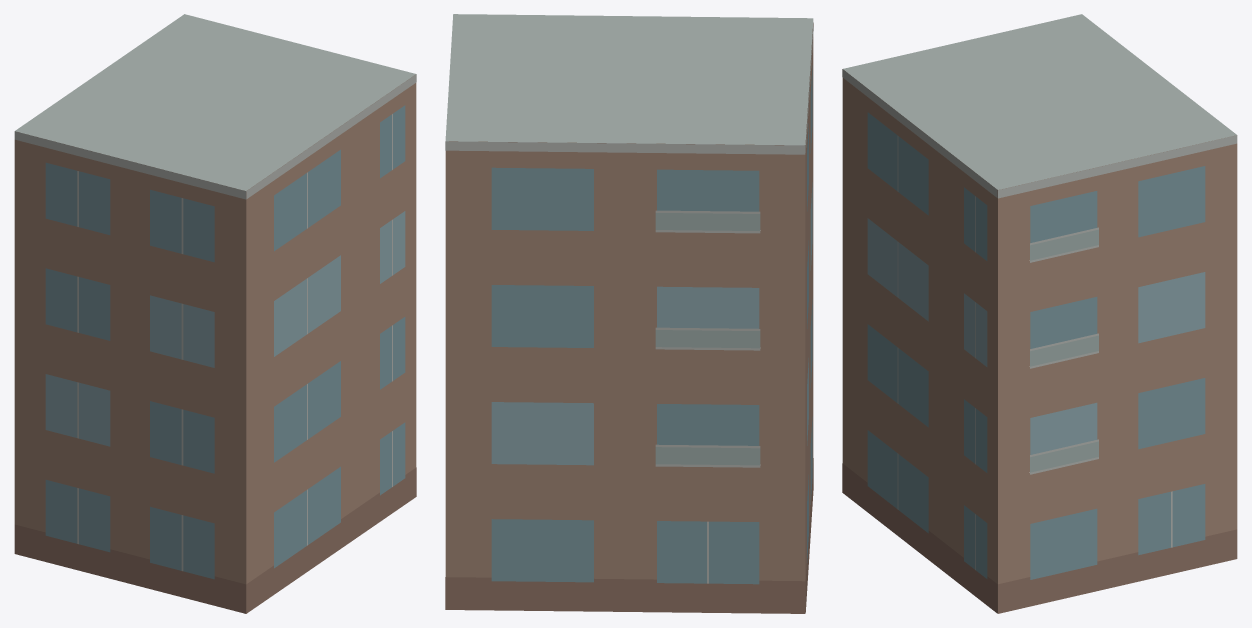
The model's file is residential-ad08dee5-63f3-4694-a81a-4f2a9295e2bc.glb.
3 renders of one model, left to right at view 1: azimuth 30°, elevation 25°; view 2: azimuth 150°, elevation 25°; view 3: azimuth 270°, elevation 25°, orthographic. The views are drawn at different scales.
Parts seen in each view (by area): view 1: residential-ad08dee5-63f3-4694-a81a-4f2a9295e2bc.tmp; view 2: residential-ad08dee5-63f3-4694-a81a-4f2a9295e2bc.tmp; view 3: residential-ad08dee5-63f3-4694-a81a-4f2a9295e2bc.tmp.
Boxes of the visible parts, box(x1,y1,x2,y2) form: residential-ad08dee5-63f3-4694-a81a-4f2a9295e2bc.tmp: box(14, 14, 416, 613); residential-ad08dee5-63f3-4694-a81a-4f2a9295e2bc.tmp: box(445, 14, 813, 613); residential-ad08dee5-63f3-4694-a81a-4f2a9295e2bc.tmp: box(842, 14, 1237, 613).
Size of the model in its own units: 10.88 by 12.2 by 10.31.
